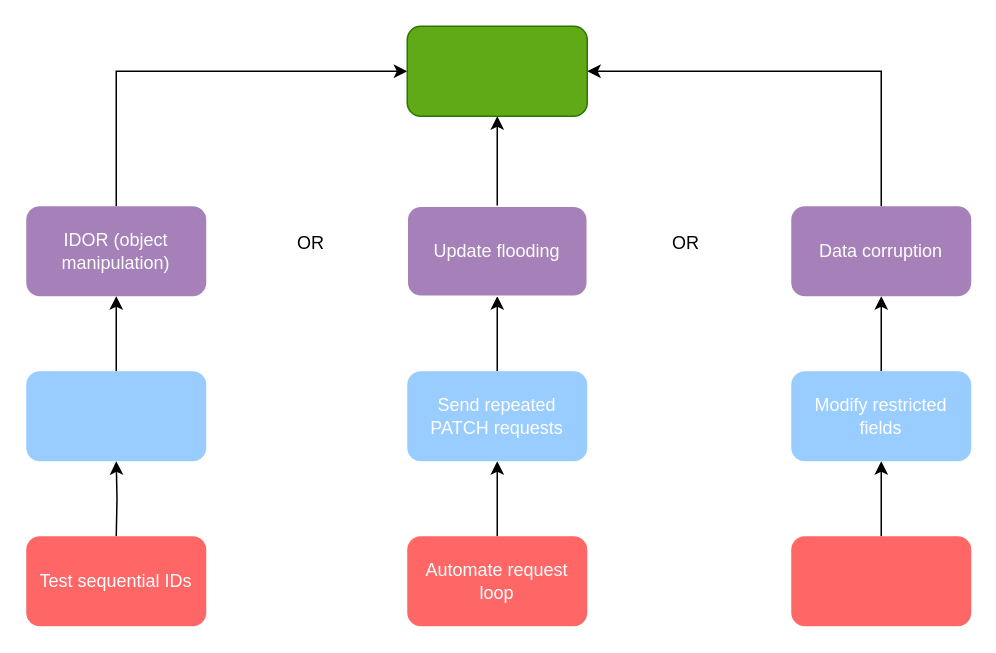
Some shapes in this 996 by 653 pixel diagram are drawn without their labels. The box of each missing label's shape, as (x1, y1, x2, y2) in pixels:
Access and modify other users’ products: (26, 370, 206, 460)
Craft JSON update payload: (790, 536, 970, 626)
Manipulate existing products: (406, 25, 587, 116)
